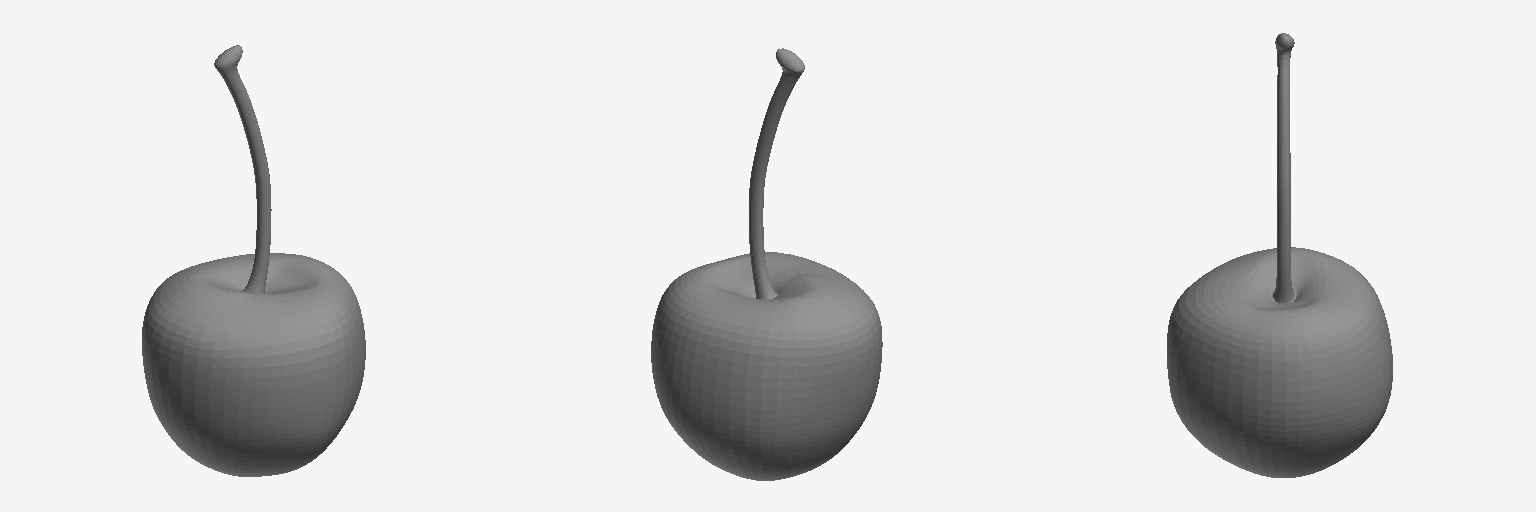
File: cherry.obj
The picture shows the model from 3 angles: view 1: azimuth 30°, elevation 25°; view 2: azimuth 150°, elevation 25°; view 3: azimuth 270°, elevation 25°; orthographic projection.
Parts seen in each view (by area): view 1: 10174_Cherry_v01; view 2: 10174_Cherry_v01; view 3: 10174_Cherry_v01.
Part boxes in pixels (left/top/right/bottom): 10174_Cherry_v01: left=142, top=45, right=365, bottom=476; 10174_Cherry_v01: left=651, top=48, right=882, bottom=480; 10174_Cherry_v01: left=1167, top=33, right=1392, bottom=477.
Bounding box in the file's own units: 5.39 × 10.69 × 5.16.